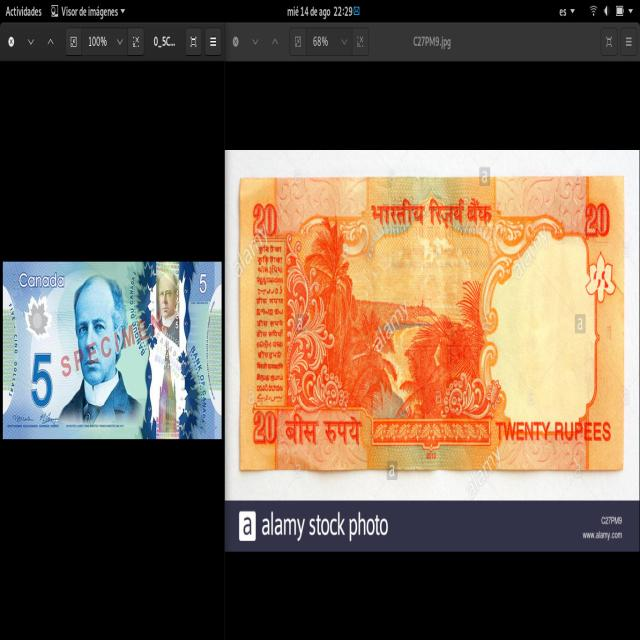20IndianRupees: (240, 181, 623, 470)
